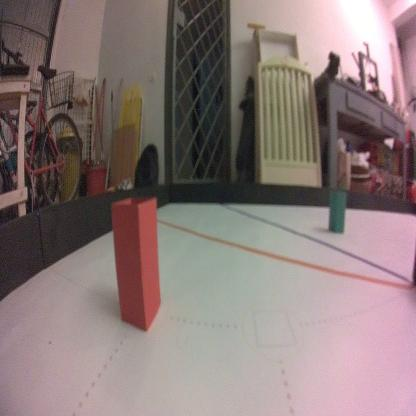green: (328, 190, 347, 234)
red: (110, 197, 162, 334)
